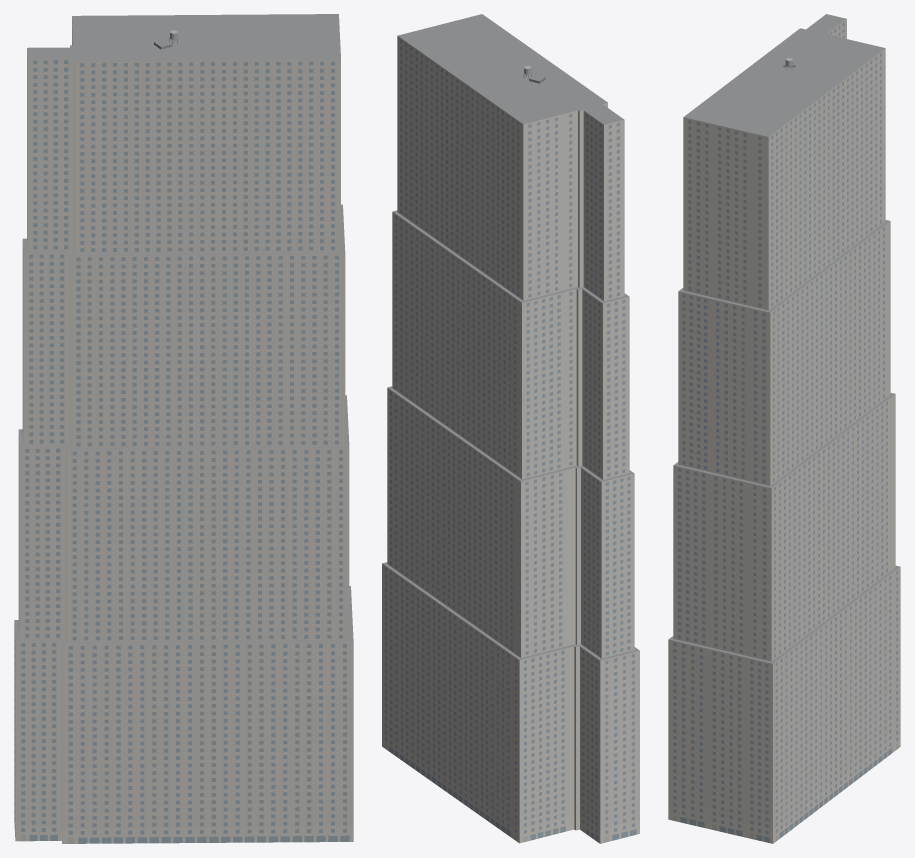
The model's file is doitt-778052__lod_1.glb.
3 views of the same model, side by side, from view 1: azimuth 30°, elevation 25°; view 2: azimuth 150°, elevation 25°; view 3: azimuth 270°, elevation 25° (orthographic). The views are drawn at different scales.
Bounding box in the file's own units: 157 × 383 × 113.
